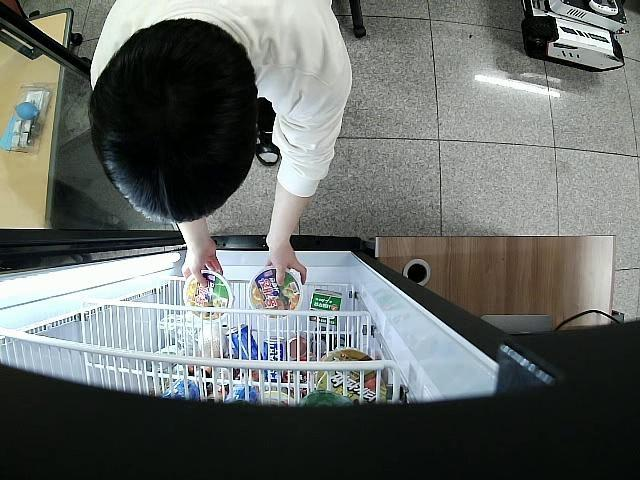09_yukGaeJang: (246, 267, 302, 320), (183, 270, 232, 324)
